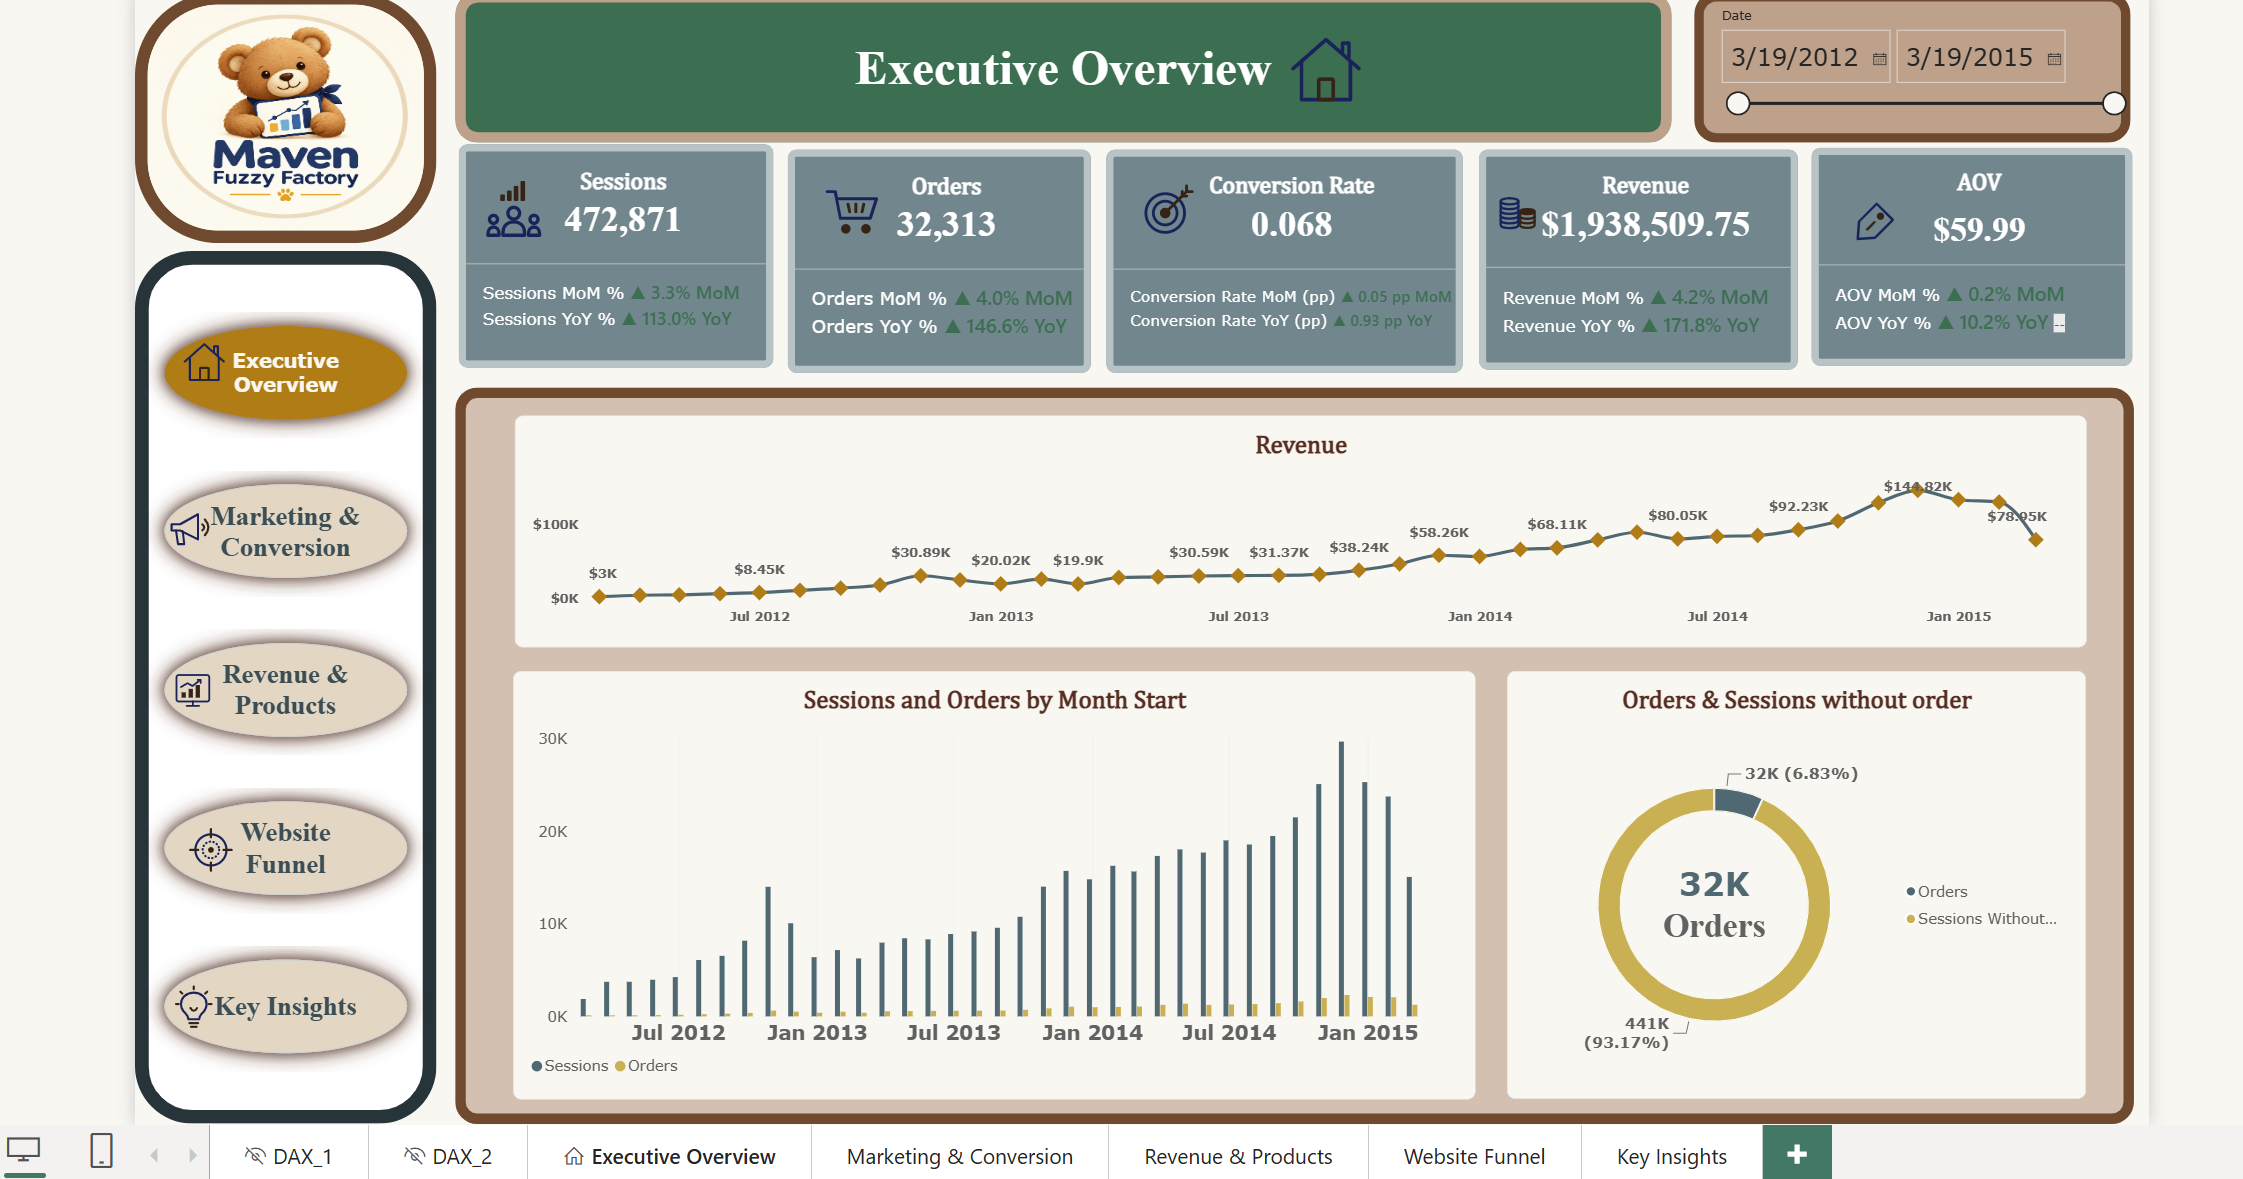

Layout of this report page (visuals, bound fields, positions):
{"tool":"powerbi","page":{"name":"Executive Overview","canvas":[1920,1080],"ordinal":2},"visuals":[{"type":"shape","box":[0,247.1,287.4,832],"z":0},{"type":"shape","box":[305.1,0,1159.7,143.7],"z":1000,"group":"g4"},{"type":"group","id":"g1","title":"Group 1","box":[309.2,145.1,1595.8,217.7],"z":1000},{"type":"group","id":"g2","title":"Group 4","box":[0,0,1906.7,1078.3],"z":2000},{"type":"shape","box":[1487.5,0,416,143.7],"z":2000,"group":"g4"},{"type":"shape","box":[305.3,376.6,1600.5,702.3],"z":3000,"group":"g2"},{"type":"cardVisual","fields":{"Data":["N_Measures.Sessions"]},"box":[309.2,145.1,300.1,213.3],"z":4000,"group":"g1"},{"type":"cardVisual","fields":{"Data":["N_Measures.Orders"]},"box":[623.3,149.5,289.7,213.3],"z":5000,"group":"g1"},{"type":"cardVisual","fields":{"Data":["N_Measures.Conversion Rate"]},"box":[927,149.5,340.6,213.3],"z":6000,"group":"g1"},{"type":"cardVisual","fields":{"Data":["N_Measures.Revenue"]},"box":[1281.6,149.5,305,210.2],"z":7000,"group":"g1"},{"type":"cardVisual","fields":{"Data":["N_Measures.AOV"]},"box":[1599,147.8,306,208.2],"z":8000,"group":"g1"},{"type":"pageNavigator","box":[0,287.4,287.4,753.8],"z":9000,"group":"g3"},{"type":"image","box":[0,0,287.4,239.5],"z":10000,"group":"g4"},{"type":"slicer","fields":{"Values":["Dates.Date"]},"box":[1505.1,15.1,398.3,128.6],"z":11000,"group":"g4"},{"type":"clusteredColumnChart","fields":{"Category":["Dates.Month Start"],"Y":["N_Measures.Sessions","N_Measures.Orders"]},"box":[360.5,647.9,917.7,408.4],"z":12000,"group":"g2"},{"type":"lineChart","title":"Revenue","fields":{"Category":["Dates.Month Start"],"Y":["N_Measures.Revenue"]},"box":[361.3,404.6,1498.7,221.4],"z":13000,"group":"g2"},{"type":"donutChart","title":"Orders & Sessions without order","fields":{"Y":["N_Measures.Orders","N_Measures.Sessions Without Order"]},"box":[1308.5,647.9,552,408],"z":14000,"group":"g2"},{"type":"image","box":[37.8,327.8,55.5,47.9],"z":15000,"group":"g3"},{"type":"image","box":[48.7,782.8,47.9,70.6],"z":16000,"group":"g3"},{"type":"image","box":[30.3,645.4,50.4,40.3],"z":17000,"group":"g3"},{"type":"image","box":[17.6,489.1,64,48],"z":18000,"group":"g3"},{"type":"image","box":[324,168.5,74.6,74.6],"z":19000,"group":"g1"},{"type":"image","box":[643,176.2,85.2,66.3],"z":20000,"group":"g1"},{"type":"image","box":[933.3,176.2,104.1,63.1],"z":21000,"group":"g1"},{"type":"image","box":[1293,176.2,50.5,66.3],"z":22000,"group":"g1"},{"type":"image","box":[1608.5,195.2,94.6,53.6],"z":23000,"group":"g1"},{"type":"image","box":[29.6,945.7,52,47.5],"z":24000,"group":"g3"},{"type":"image","box":[1091.7,32.8,88.2,80.7],"z":25000,"group":"g3"},{"type":"group","id":"g3","title":"Group 2","box":[0,32.8,1179.9,1008.5],"z":25002,"group":"g4"},{"type":"group","id":"g4","title":"Group 3","box":[0,0,1903.5,1041.2],"z":25003,"group":"g2"}]}

Visuals, with their boxes on the page's 1920x1080 design canvas (x1, y1, x2, y2). These are canvas units, not pixel positions in the 2243x1179 screenshot, which may show the page scaled, cropped or inside an application window:
shape: Rect(0, 247, 287, 1079)
shape: Rect(305, 0, 1465, 144)
"Group 1" group: Rect(309, 145, 1905, 363)
"Group 4" group: Rect(0, 0, 1907, 1078)
shape: Rect(1488, 0, 1904, 144)
shape: Rect(305, 377, 1906, 1079)
cardVisual - N_Measures.Sessions: Rect(309, 145, 609, 358)
cardVisual - N_Measures.Orders: Rect(623, 150, 913, 363)
cardVisual - N_Measures.Conversion Rate: Rect(927, 150, 1268, 363)
cardVisual - N_Measures.Revenue: Rect(1282, 150, 1587, 360)
cardVisual - N_Measures.AOV: Rect(1599, 148, 1905, 356)
pageNavigator: Rect(0, 287, 287, 1041)
image: Rect(0, 0, 287, 240)
slicer - Dates.Date: Rect(1505, 15, 1903, 144)
clusteredColumnChart - Dates.Month Start x N_Measures.Sessions: Rect(360, 648, 1278, 1056)
"Revenue" lineChart: Rect(361, 405, 1860, 626)
"Orders & Sessions without order" donutChart: Rect(1308, 648, 1860, 1056)
image: Rect(38, 328, 93, 376)
image: Rect(49, 783, 97, 853)
image: Rect(30, 645, 81, 686)
image: Rect(18, 489, 82, 537)
image: Rect(324, 168, 399, 243)
image: Rect(643, 176, 728, 242)
image: Rect(933, 176, 1037, 239)
image: Rect(1293, 176, 1344, 242)
image: Rect(1608, 195, 1703, 249)
image: Rect(30, 946, 82, 993)
image: Rect(1092, 33, 1180, 114)
"Group 2" group: Rect(0, 33, 1180, 1041)
"Group 3" group: Rect(0, 0, 1904, 1041)
